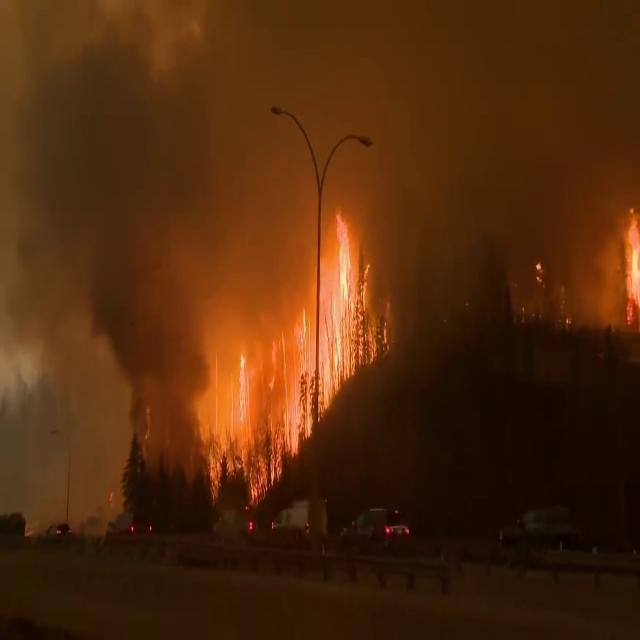Fire: (192, 208, 384, 510), (617, 201, 640, 330)
Smoke: (360, 0, 640, 356), (0, 1, 182, 534)
